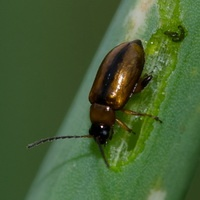insect: (28, 39, 161, 147)
